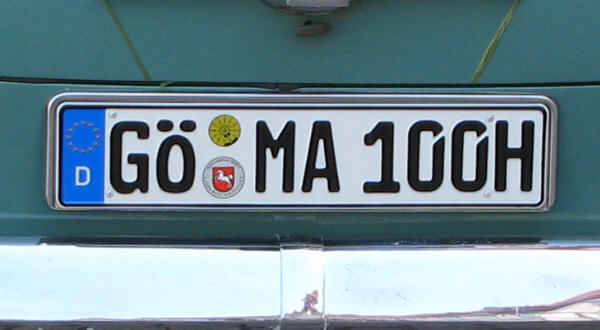license_plate: (58, 102, 546, 208)
